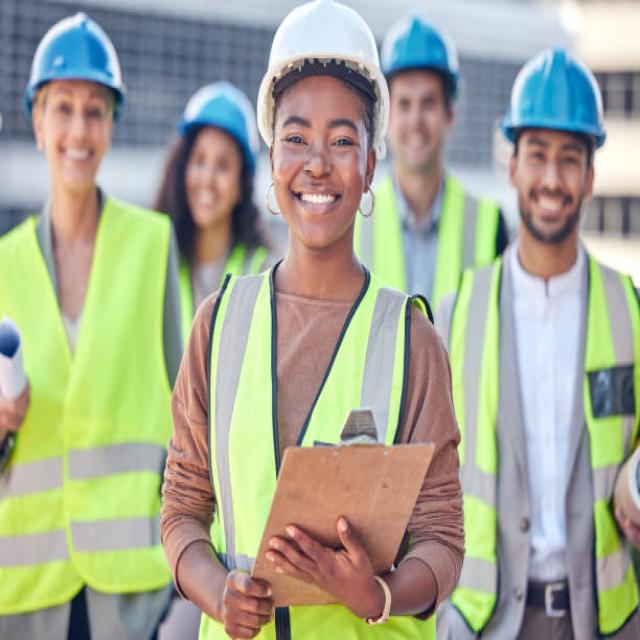Hard Hat: (254, 2, 409, 121), (495, 44, 615, 156), (19, 6, 134, 120), (379, 12, 469, 105), (174, 79, 266, 163)
Reflective Vest: (188, 257, 448, 640), (442, 260, 640, 634), (0, 202, 179, 615), (346, 171, 502, 314), (166, 220, 279, 358)
